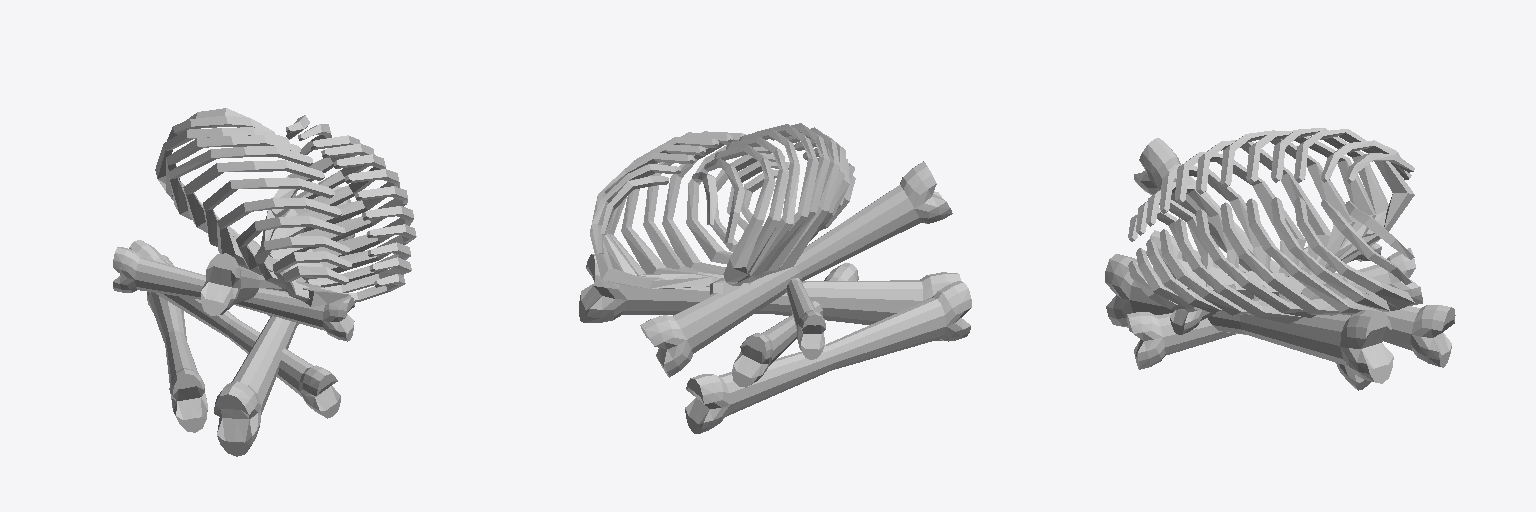
File: bone_pile_2_002.obj
The picture shows the model from 3 angles: view 1: azimuth 30°, elevation 25°; view 2: azimuth 150°, elevation 25°; view 3: azimuth 270°, elevation 25°; orthographic projection.
Parts seen in each view (by area): view 1: bone_with_ribcage_Cylinder.008_Cylinder.000; view 2: bone_with_ribcage_Cylinder.008_Cylinder.000; view 3: bone_with_ribcage_Cylinder.008_Cylinder.000.
Boxes of the visible parts, <box> form: bone_with_ribcage_Cylinder.008_Cylinder.000: <box>113,108,416,456</box>; bone_with_ribcage_Cylinder.008_Cylinder.000: <box>579,123,971,433</box>; bone_with_ribcage_Cylinder.008_Cylinder.000: <box>1105,128,1455,390</box>.
Size of the model in its own units: 1.26 by 0.995 by 1.34.